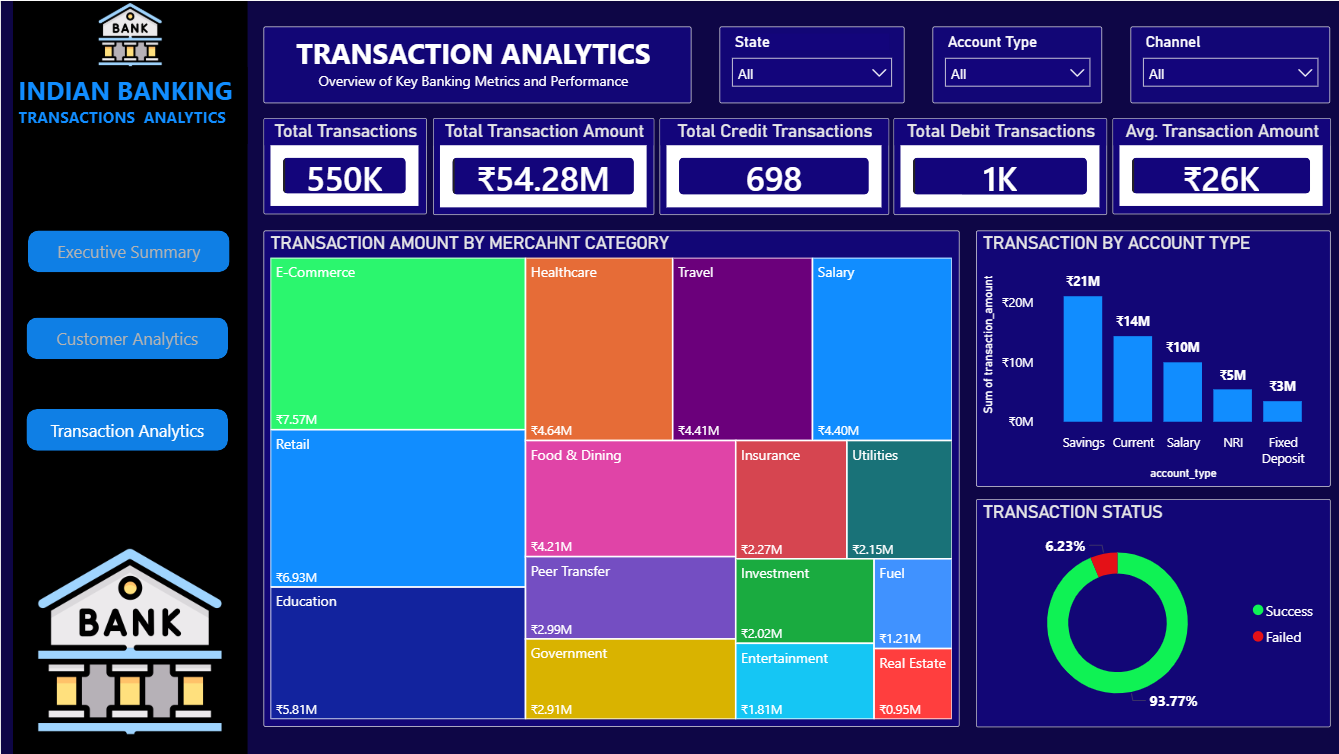

Layout of this report page (visuals, bound fields, positions):
{"tool":"powerbi","page":{"name":"Transaction Analytics","canvas":[1280,720],"ordinal":2},"visuals":[{"type":"shape","box":[11.1,0,224.3,720.5],"z":0},{"type":"textbox","box":[11.1,63.6,224.3,73.2],"z":1000},{"type":"textbox","box":[251.3,23.9,408.8,73.2],"z":2000},{"type":"cardVisual","title":"Total Transactions","fields":{"Data":["All measures.Total transactions"]},"box":[251.3,111.3,155.9,92.3],"z":3000},{"type":"cardVisual","title":"Total Transaction Amount","fields":{"Data":["All measures.Total Transaction Amount"]},"box":[411.9,111.5,211.7,92.6],"z":4000},{"type":"cardVisual","title":"Total Credit Transactions","fields":{"Data":["All measures.Total Credit Transactions"]},"box":[628.2,111.5,219.2,92.6],"z":5000},{"type":"cardVisual","title":"Total Debit Transactions","fields":{"Data":["All measures.Total Debit Transactions"]},"box":[852.1,111.5,204.1,92.6],"z":6000},{"type":"cardVisual","title":"Avg. Transaction Amount","fields":{"Data":["All measures.Average Transaction Amount"]},"box":[1060.9,111.3,208.4,92.3],"z":7000},{"type":"clusteredColumnChart","title":"TRANSACTION BY ACCOUNT TYPE","fields":{"Y":["Sum(indian_banking_transactions.transaction_amount)"],"Category":["indian_banking_transactions.account_type"]},"box":[930.5,219.5,338.8,245],"z":8000},{"type":"treemap","title":"TRANSACTION AMOUNT BY MERCAHNT CATEGORY","fields":{"Group":["indian_banking_transactions.merchant_category"],"Values":["Sum(indian_banking_transactions.transaction_amount)"]},"box":[251.3,219.5,664.9,474],"z":9000},{"type":"slicer","fields":{"Values":["indian_banking_transactions.state"]},"box":[686.6,23.9,176.6,73.2],"z":10000},{"type":"slicer","fields":{"Values":["indian_banking_transactions.account_type"]},"box":[889.7,23.9,162.2,73.2],"z":11000},{"type":"slicer","fields":{"Values":["indian_banking_transactions.channel"]},"box":[1078.4,23.9,190.9,73.2],"z":12000},{"type":"image","box":[30.2,499.5,186.1,221.1],"z":13000},{"type":"image","box":[77.9,0,92.3,63.6],"z":14000},{"type":"actionButton","box":[25.4,219.5,192.5,39.8],"z":15000},{"type":"actionButton","box":[23.9,302.2,192.5,39.8],"z":16000},{"type":"actionButton","box":[23.9,389.7,192.5,39.8],"z":17000},{"type":"donutChart","title":"TRANSACTION STATUS","fields":{"Y":["Sum(indian_banking_transactions.transaction_amount)"],"Category":["indian_banking_transactions.transaction_status"]},"box":[930.5,475.6,338.8,217.9],"z":18000}]}

Visuals, with their boxes in screenshot pixels (x1, y1, x2, y2), scaled from the page's 1280x720 canvas onto the 1339x754 screenshot:
shape: [12,0,246,753]
textbox: [12,67,246,143]
textbox: [263,25,691,102]
"Total Transactions" cardVisual: [263,117,426,213]
"Total Transaction Amount" cardVisual: [431,117,652,214]
"Total Credit Transactions" cardVisual: [657,117,886,214]
"Total Debit Transactions" cardVisual: [891,117,1105,214]
"Avg. Transaction Amount" cardVisual: [1110,117,1328,213]
"TRANSACTION BY ACCOUNT TYPE" clusteredColumnChart: [973,230,1328,486]
"TRANSACTION AMOUNT BY MERCAHNT CATEGORY" treemap: [263,230,958,726]
slicer - indian_banking_transactions.state: [718,25,903,102]
slicer - indian_banking_transactions.account_type: [931,25,1100,102]
slicer - indian_banking_transactions.channel: [1128,25,1328,102]
image: [32,523,226,753]
image: [81,0,178,67]
actionButton: [27,230,228,272]
actionButton: [25,316,226,358]
actionButton: [25,408,226,450]
"TRANSACTION STATUS" donutChart: [973,498,1328,726]
